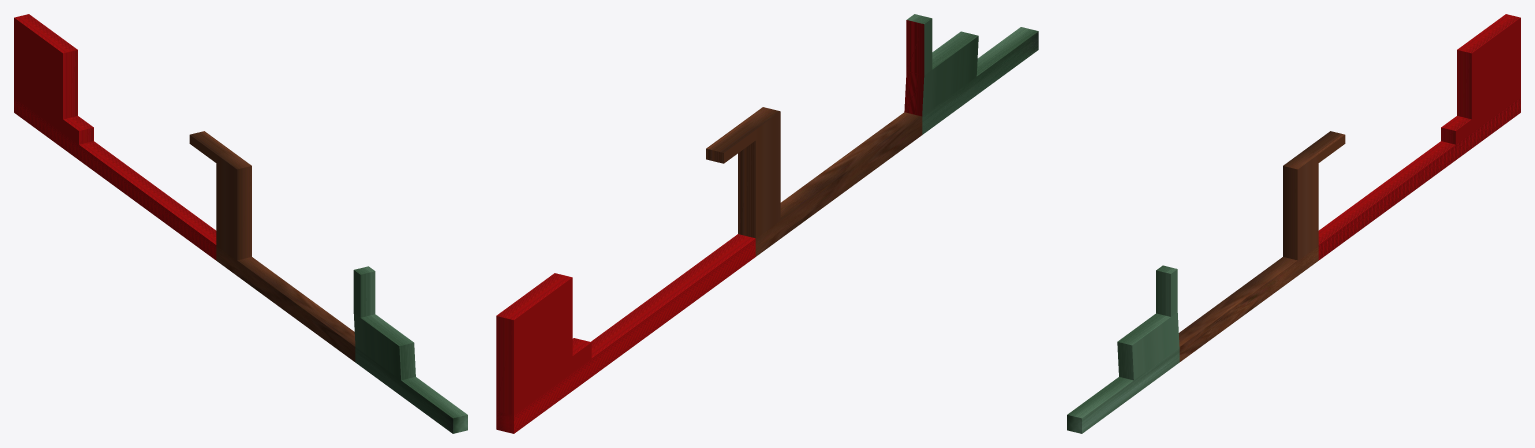
Rendered from NIVEL7.fbx.
3 renders of one model, left to right at view 1: azimuth 30°, elevation 25°; view 2: azimuth 150°, elevation 25°; view 3: azimuth 330°, elevation 25°, orthographic. The views are drawn at different scales.
Parts seen in each view (by area): view 1: Cube.018, Cube.020, Cube.019; view 2: Cube.018, Cube.020, Cube.019; view 3: Cube.018, Cube.020, Cube.019.
Boxes of the visible parts, x1,y1,x2,y2 form: Cube.018: (14,14,216,260); Cube.020: (189,131,355,361); Cube.019: (353,266,467,433); Cube.018: (496,20,924,433); Cube.020: (706,107,922,256); Cube.019: (907,14,1038,134); Cube.018: (1318,14,1520,260); Cube.020: (1179,131,1345,361); Cube.019: (1067,265,1179,433).
Bounding box in the file's own units: 223 × 1369 × 10221.
